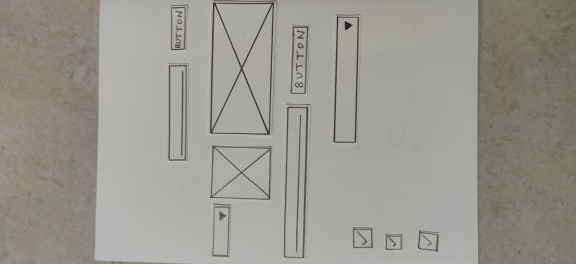button: (288, 21, 312, 99), (167, 3, 189, 54)
checkbox: (415, 227, 443, 255), (349, 225, 376, 251), (383, 231, 406, 254)
dropdown: (330, 13, 362, 146), (210, 202, 233, 259)
img: (207, 1, 276, 139), (207, 144, 275, 203)
text: (280, 104, 310, 260), (162, 62, 192, 163)
